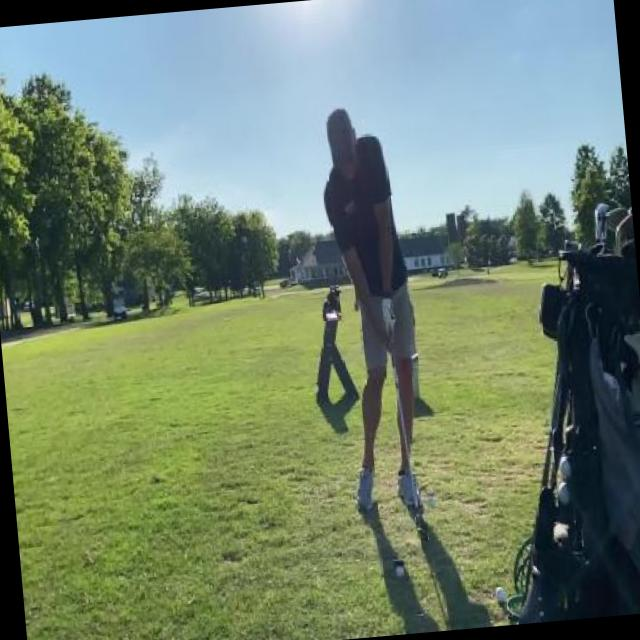club head: (414, 516, 428, 540)
